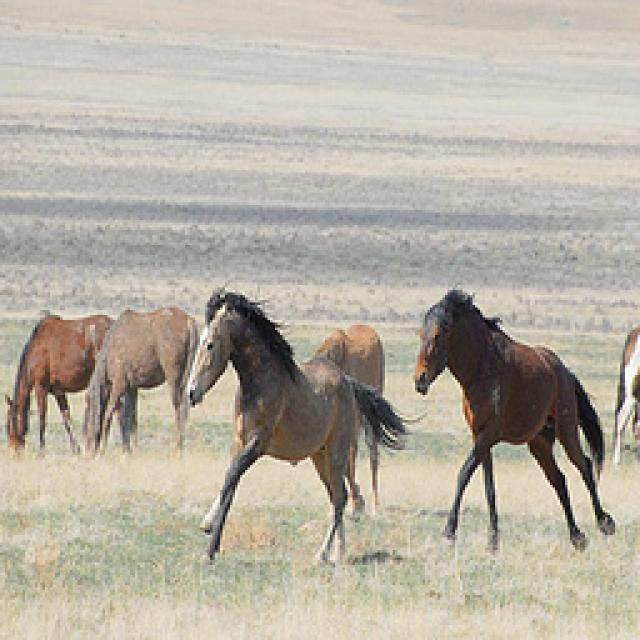not_pig: (182, 287, 412, 565), (413, 285, 615, 553), (82, 305, 200, 457), (2, 310, 118, 458), (307, 323, 385, 515), (612, 312, 638, 468)
